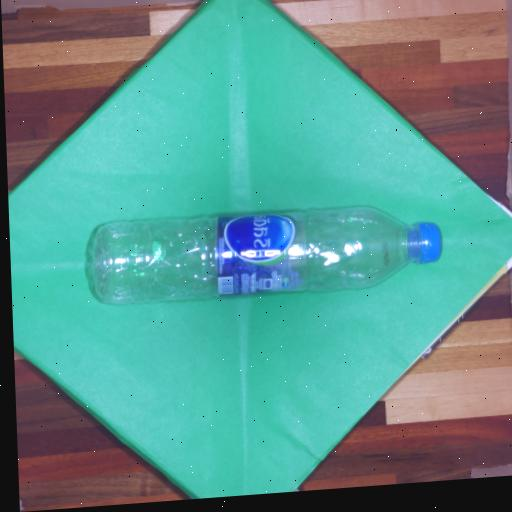bottle: (82, 195, 456, 309)
